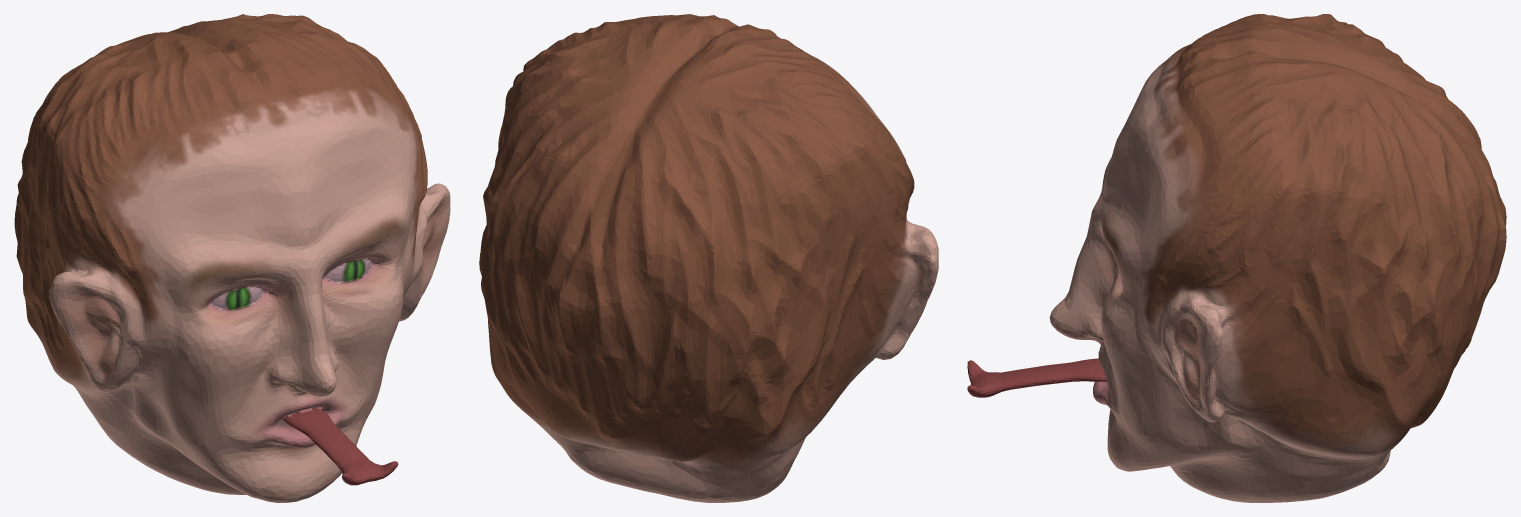
Rendered from zuckreptile.glb.
The picture shows the model from 3 angles, left to right: view 1: azimuth 30°, elevation 25°; view 2: azimuth 150°, elevation 25°; view 3: azimuth 270°, elevation 25°; orthographic projection. The views are drawn at different scales.
Parts seen in each view (by area): view 1: Sphère Quad; view 2: Sphère Quad; view 3: Sphère Quad.
Part boxes in pixels (x1=…): Sphère Quad: x1=14, y1=14, x2=450, y2=502; Sphère Quad: x1=479, y1=14, x2=938, y2=502; Sphère Quad: x1=967, y1=14, x2=1506, y2=502.
Size of the model in its own units: 1 by 1.03 by 1.15.
